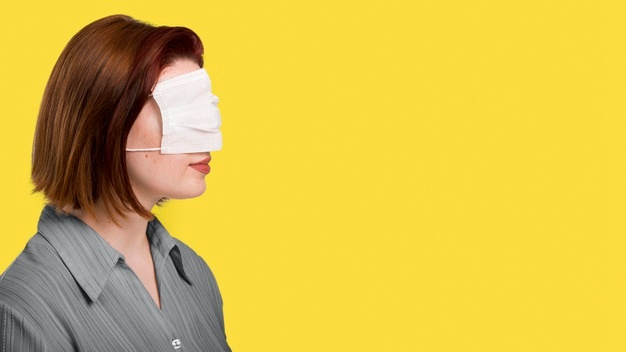with_incorrect_mask: (126, 70, 225, 200)
